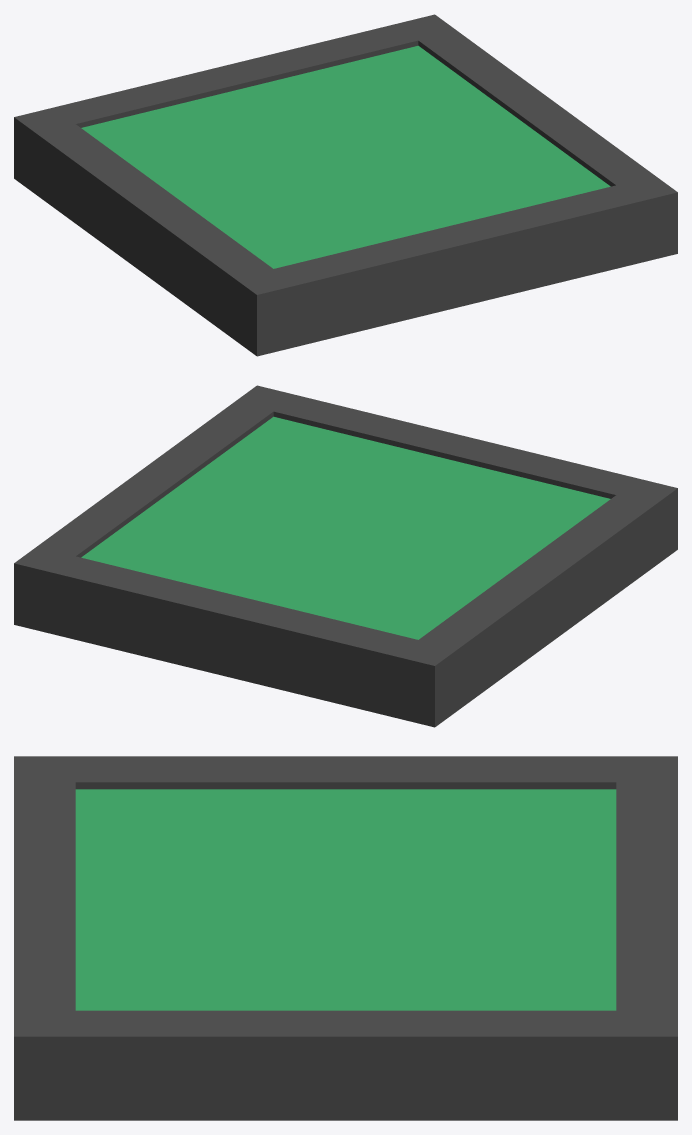
3 renders of one model, top to bottom at view 1: azimuth 30°, elevation 25°; view 2: azimuth 150°, elevation 25°; view 3: azimuth 270°, elevation 25°, orthographic. The views are drawn at different scales.
Size of the model in its own units: 0.86 by 0.12 by 0.86.
